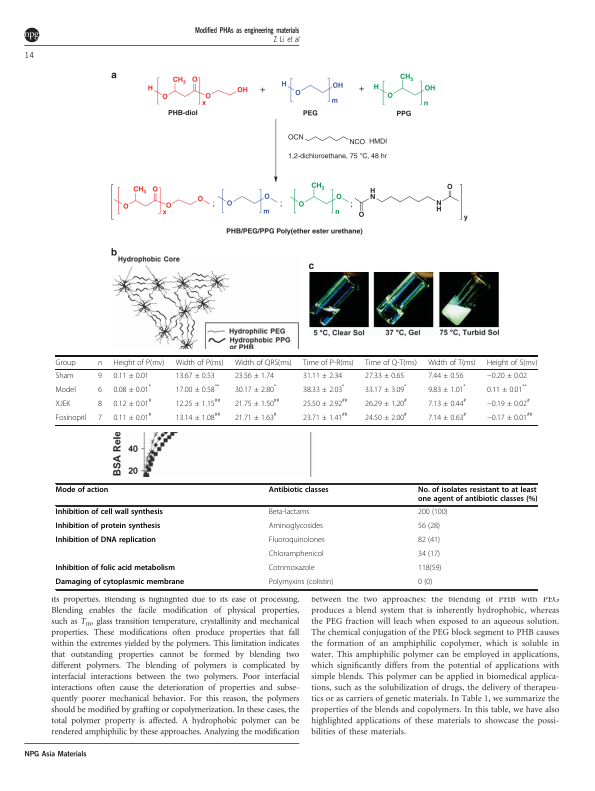borderless: (54, 482, 537, 589), (55, 354, 538, 425)
cell: (417, 486, 538, 504), (55, 578, 185, 588), (55, 564, 176, 574), (55, 508, 164, 518), (55, 522, 161, 532), (55, 536, 157, 546), (268, 578, 334, 588), (268, 536, 326, 546), (268, 522, 324, 532), (268, 550, 324, 560), (268, 486, 330, 495), (234, 358, 293, 367), (486, 411, 533, 422), (175, 397, 221, 408), (234, 397, 280, 408), (302, 397, 348, 408), (175, 411, 221, 422), (302, 411, 348, 422), (175, 383, 220, 394), (486, 397, 531, 408), (55, 486, 109, 495), (364, 358, 418, 367), (364, 397, 408, 408), (234, 411, 278, 422), (364, 411, 408, 422), (112, 358, 165, 367), (302, 358, 355, 367), (234, 383, 277, 394), (302, 383, 345, 394), (364, 383, 407, 394), (268, 564, 315, 574), (486, 358, 538, 367), (486, 383, 528, 394), (427, 358, 477, 367), (175, 358, 224, 367), (112, 383, 152, 394), (427, 383, 467, 394), (112, 397, 152, 408), (427, 397, 467, 408), (112, 411, 152, 422), (427, 411, 467, 422), (268, 508, 310, 518), (486, 371, 528, 380), (175, 371, 216, 380), (234, 371, 275, 380), (302, 371, 343, 380), (364, 371, 405, 380), (112, 371, 150, 380), (427, 371, 464, 380), (417, 508, 448, 518), (55, 413, 87, 422), (417, 564, 442, 574), (417, 522, 441, 532), (417, 536, 441, 546), (417, 550, 441, 560), (55, 385, 77, 394), (55, 358, 76, 367), (55, 371, 74, 380), (417, 578, 433, 588), (55, 399, 71, 408), (97, 371, 103, 380), (97, 385, 103, 394), (97, 399, 103, 408), (97, 413, 103, 422), (97, 360, 103, 366)
